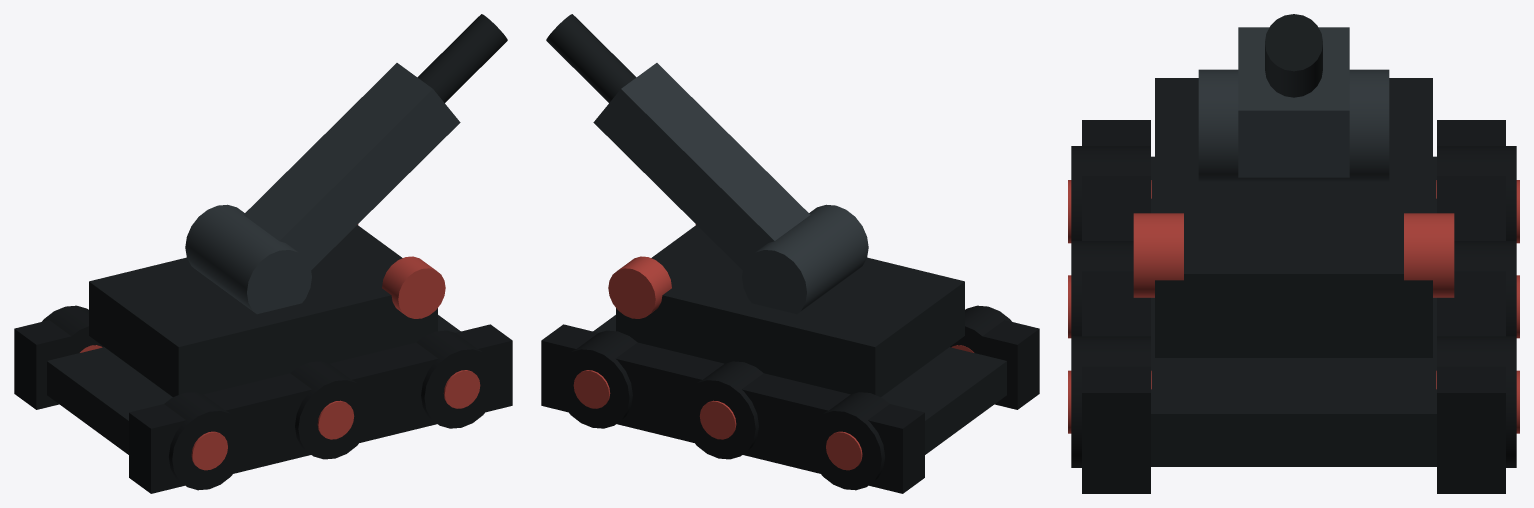
Rendered from guardian-tank-1.glb.
3 renders of one model, left to right at view 1: azimuth 30°, elevation 25°; view 2: azimuth 150°, elevation 25°; view 3: azimuth 270°, elevation 25°, orthographic. The views are drawn at different scales.
Parts seen in each view (by area): view 1: Guardian one hull, Track (×2), Raised cannon, Track roller (×4), Cannon pivot, Lower chassis, Cannon muzzle, Track hub (×3), Signal hub; view 2: Guardian one hull, Track (×2), Raised cannon, Track roller (×4), Cannon pivot, Lower chassis, Cannon muzzle, Track hub (×3), Signal hub; view 3: Guardian one hull, Track (×2), Lower chassis, Track roller (×6), Raised cannon, Cannon pivot, Signal hub (×2), Cannon muzzle.
Boxes of the visible parts, x1=… form: Guardian one hull: x1=89, y1=225, x2=437, y2=396; Track (×2): x1=14, y1=320, x2=512, y2=493; Raised cannon: x1=243, y1=63, x2=460, y2=270; Track roller (×4): x1=42, y1=305, x2=498, y2=490; Cannon pivot: x1=185, y1=204, x2=311, y2=314; Lower chassis: x1=47, y1=315, x2=460, y2=454; Cannon muzzle: x1=417, y1=14, x2=507, y2=102; Track hub (×3): x1=191, y1=370, x2=480, y2=470; Signal hub: x1=382, y1=256, x2=445, y2=318; Guardian one hull: x1=616, y1=225, x2=964, y2=396; Track (×2): x1=541, y1=320, x2=1039, y2=493; Raised cannon: x1=593, y1=63, x2=810, y2=270; Track roller (×4): x1=555, y1=305, x2=1011, y2=490; Cannon pivot: x1=742, y1=204, x2=868, y2=314; Lower chassis: x1=593, y1=315, x2=1006, y2=454; Cannon muzzle: x1=546, y1=14, x2=636, y2=102; Track hub (×3): x1=573, y1=370, x2=862, y2=470; Signal hub: x1=608, y1=256, x2=671, y2=318; Guardian one hull: x1=1155, y1=78, x2=1432, y2=357; Track (×2): x1=1082, y1=120, x2=1505, y2=493; Lower chassis: x1=1151, y1=156, x2=1436, y2=466; Track roller (×6): x1=1071, y1=146, x2=1516, y2=467; Raised cannon: x1=1238, y1=27, x2=1349, y2=177; Cannon pivot: x1=1198, y1=69, x2=1389, y2=181; Signal hub (×2): x1=1133, y1=213, x2=1454, y2=297; Cannon muzzle: x1=1265, y1=14, x2=1322, y2=97.
Bounding box in the file's own units: 2.84 × 2.17 × 1.7.
